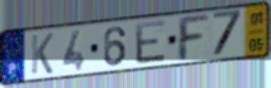4: (61, 28, 87, 73)
6: (102, 25, 128, 67)
7: (211, 8, 244, 59)
E: (134, 18, 168, 66)
F: (175, 13, 211, 64)
K: (29, 32, 54, 76)
